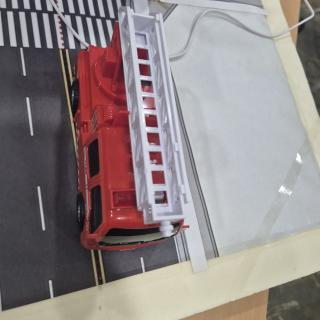Fire_truck: (71, 7, 193, 250)
